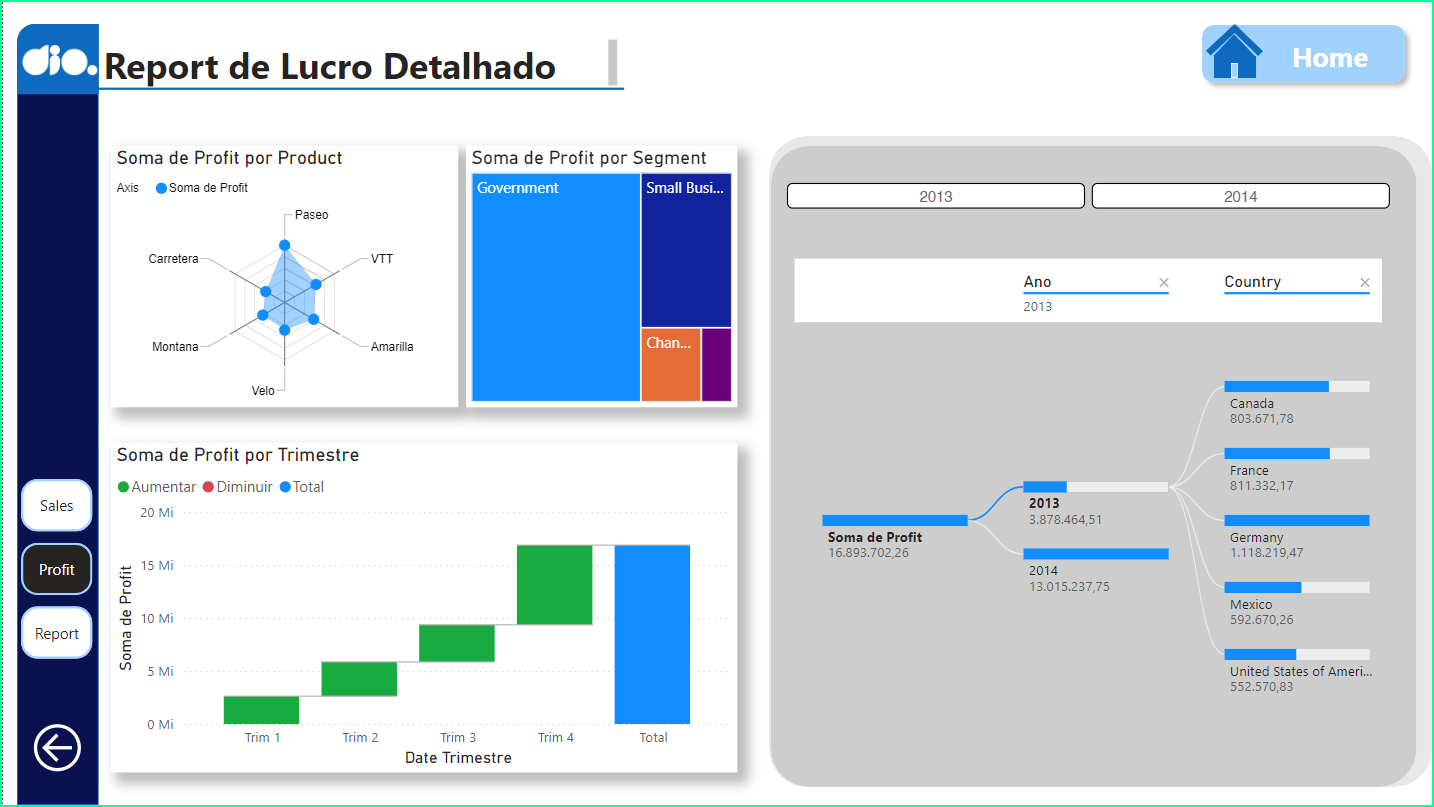

Layout of this report page (visuals, bound fields, positions):
{"tool":"powerbi","page":{"name":"Profit","canvas":[1280,720],"ordinal":1},"visuals":[{"type":"shape","box":[1097.3,20.1,33.2,30.4],"z":0,"group":"g1"},{"type":"shape","box":[1084.5,49.8,37.6,19.7],"z":0,"group":"g2"},{"type":"shape","box":[83.5,59.7,473,37.1],"z":0,"group":"g3"},{"type":"shape","box":[686,121,594,583],"z":0},{"type":"shape","box":[688,130,578,574],"z":500},{"type":"shape","box":[12.2,20.4,73.3,699.6],"z":1000},{"type":"shape","box":[1076.8,20.8,30,29.6],"z":1000,"group":"g1"},{"type":"textbox","box":[84.9,29.5,470.2,52.2],"z":1000,"group":"g3"},{"type":"shape","box":[1100.4,55.8,6.2,13.7],"z":1000,"group":"g2"},{"type":"group","id":"g1","title":"Grupo 1","box":[1076.8,20.1,53.7,30.4],"z":2000,"group":"g2"},{"type":"shape","box":[12.2,20.4,73.3,63.1],"z":2000},{"type":"actionButton","title":"Home Page","box":[1064.7,12.6,199.6,69.2],"z":2500,"group":"g4"},{"type":"textbox","box":[1127,28,123,47],"z":2750,"group":"g4"},{"type":"group","id":"g2","title":"Home","box":[1076.8,20.1,53.7,49.4],"z":3000,"group":"g4"},{"type":"image","title":"logo_dio","box":[12.2,22.4,77.4,61.1],"z":3000},{"type":"shape","box":[1084.4,30.1,37.8,19.7],"z":3000,"group":"g2"},{"type":"actionButton","title":"Home Page","box":[1064.2,12.6,200.1,69.1],"z":3500,"group":"g4"},{"type":"shape","box":[694,218,556,473],"z":5000},{"type":"decompositionTreeVisual","fields":{"Analyze":["Sum(financials.Profit)"],"ExplainBy":["financials.Date.Variation.Hierarquia de datas.Ano","financials.Country"]},"box":[704,226,536,457],"z":6000},{"type":"waterfallChart","fields":{"Category":["financials.Date.Variation.Hierarquia de datas.Trimestre"],"Y":["Sum(financials.Profit)"]},"box":[97,396,561,295],"z":7000},{"type":"ChicletSlicer1448559807354","fields":{"Category":["financials.Date.Variation.Hierarquia de datas.Ano"]},"box":[694,155,556,49],"z":8000},{"type":"RadarChart1446119667547","fields":{"Category":["financials.Product"],"Y":["Sum(financials.Profit)"]},"box":[97,130,311,234],"z":9000},{"type":"treemap","fields":{"Values":["Sum(financials.Profit)"],"Group":["financials.Segment"]},"box":[415,130,243,234],"z":10000},{"type":"group","id":"g3","title":"Sales report","box":[83.5,29.5,473.5,67.2],"z":11000},{"type":"actionButton","box":[21.1,638.9,54.4,60],"z":12000},{"type":"group","id":"g4","title":"Botão home","box":[1064.2,12.6,200.1,69.2],"z":13000},{"type":"pageNavigator","box":[16.3,427.7,64.2,162.9],"z":14000}]}

Visuals, with their boxes in screenshot pixels (x1, y1, x2, y2), scaled from the page's 1280x720 canvas onto the 1434x807 screenshot:
shape: [1229, 23, 1267, 57]
shape: [1215, 56, 1257, 78]
shape: [94, 67, 623, 108]
shape: [769, 136, 1433, 789]
shape: [771, 146, 1418, 789]
shape: [14, 23, 96, 806]
shape: [1206, 23, 1240, 56]
textbox: [95, 33, 622, 92]
shape: [1233, 63, 1240, 78]
"Grupo 1" group: [1206, 23, 1267, 57]
shape: [14, 23, 96, 94]
"Home Page" actionButton: [1193, 14, 1416, 92]
textbox: [1263, 31, 1400, 84]
"Home" group: [1206, 23, 1267, 78]
"logo_dio" image: [14, 25, 100, 94]
shape: [1215, 34, 1257, 56]
"Home Page" actionButton: [1192, 14, 1416, 92]
shape: [777, 244, 1400, 774]
decompositionTreeVisual - Sum(financials.Profit) x financials.Date.Variation.Hierarquia de datas.Ano: [789, 253, 1389, 766]
waterfallChart - financials.Date.Variation.Hierarquia de datas.Trimestre x Sum(financials.Profit): [109, 444, 737, 774]
ChicletSlicer1448559807354 - financials.Date.Variation.Hierarquia de datas.Ano: [777, 174, 1400, 229]
RadarChart1446119667547 - financials.Product x Sum(financials.Profit): [109, 146, 457, 408]
treemap - Sum(financials.Profit) x financials.Segment: [465, 146, 737, 408]
"Sales report" group: [94, 33, 624, 108]
actionButton: [24, 716, 85, 783]
"Botão home" group: [1192, 14, 1416, 92]
pageNavigator: [18, 479, 90, 662]
